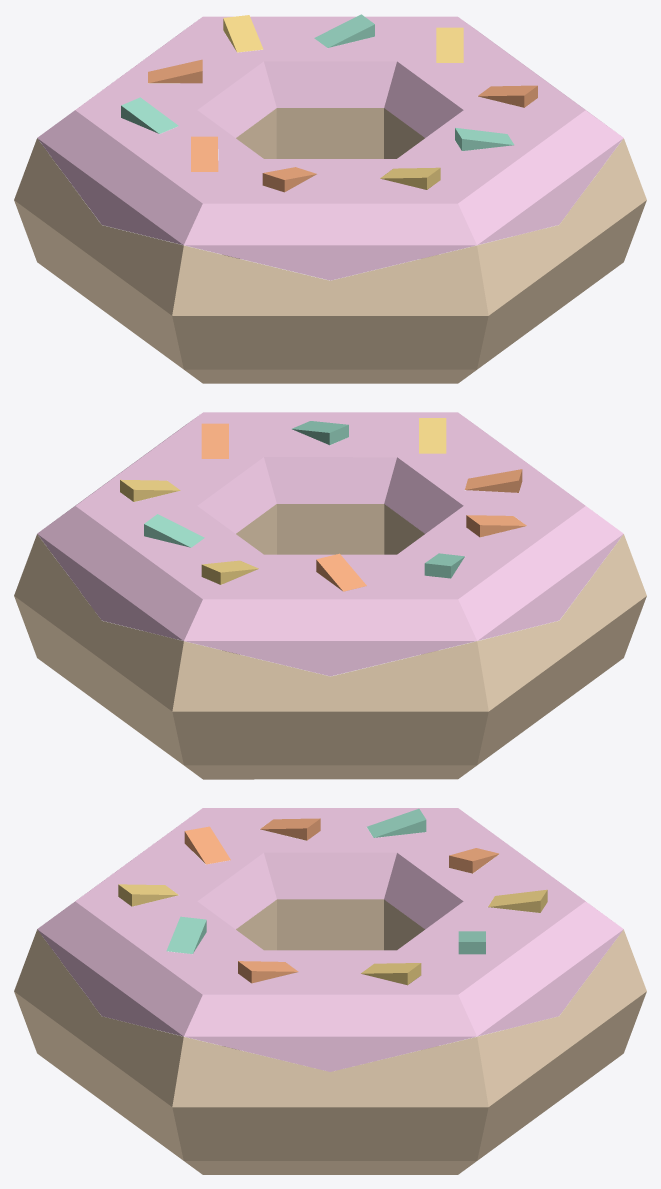
Rendered from donut.glb.
The picture shows the model from 3 angles, top to bottom: view 1: azimuth 30°, elevation 25°; view 2: azimuth 150°, elevation 25°; view 3: azimuth 270°, elevation 25°; orthographic projection.
Parts seen in each view (by area): view 1: donutSprinkles; view 2: donutSprinkles; view 3: donutSprinkles.
Boxes of the visible parts, <box> form: donutSprinkles: <box>14,14,646,383</box>; donutSprinkles: <box>14,412,646,779</box>; donutSprinkles: <box>14,808,646,1174</box>.
Size of the model in its own units: 0.2451 by 0.095 by 0.283.
